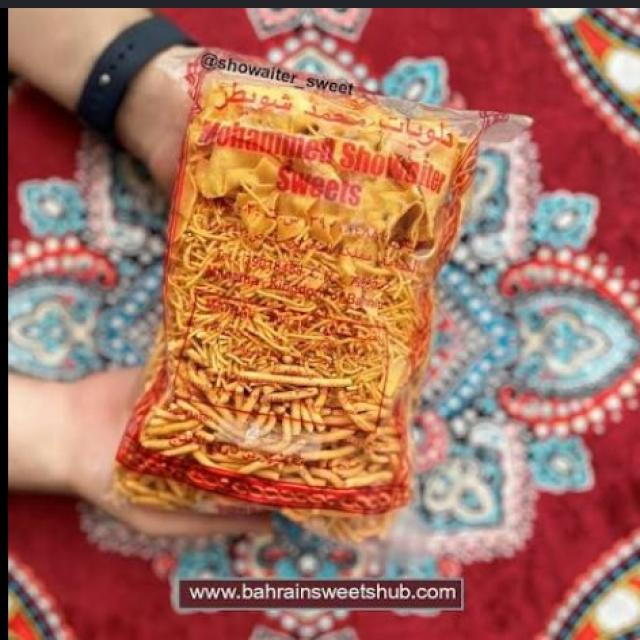Mattai: (171, 46, 465, 518)
